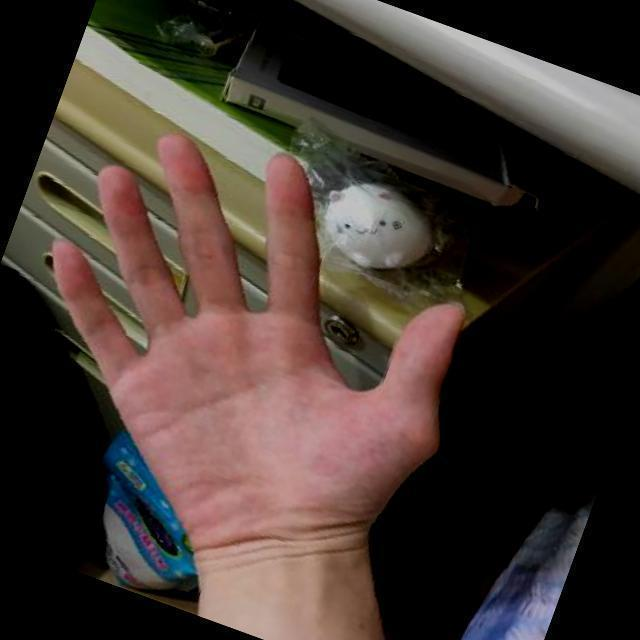hand: (0, 79, 545, 640)
